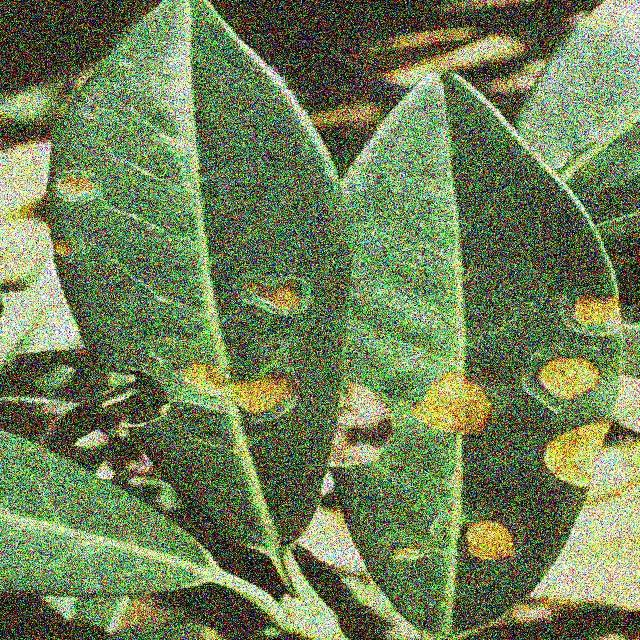shot_hole: (348, 31, 627, 632), (48, 0, 340, 573)
